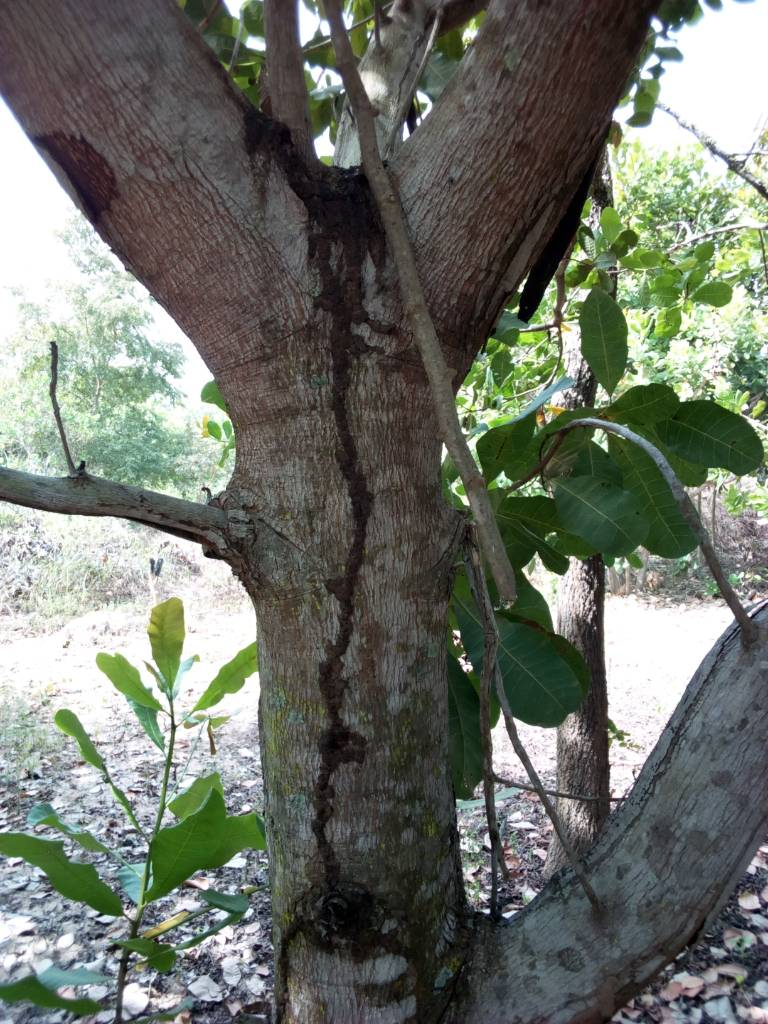Termites: (285, 350, 390, 963), (255, 110, 391, 235)
